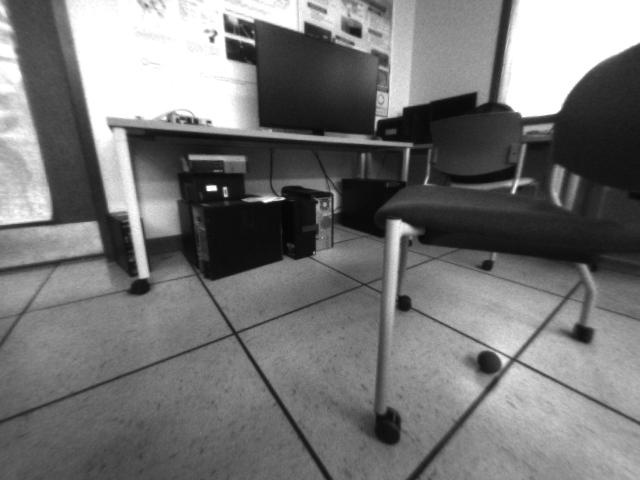dogtoy: (472, 344, 507, 380)
